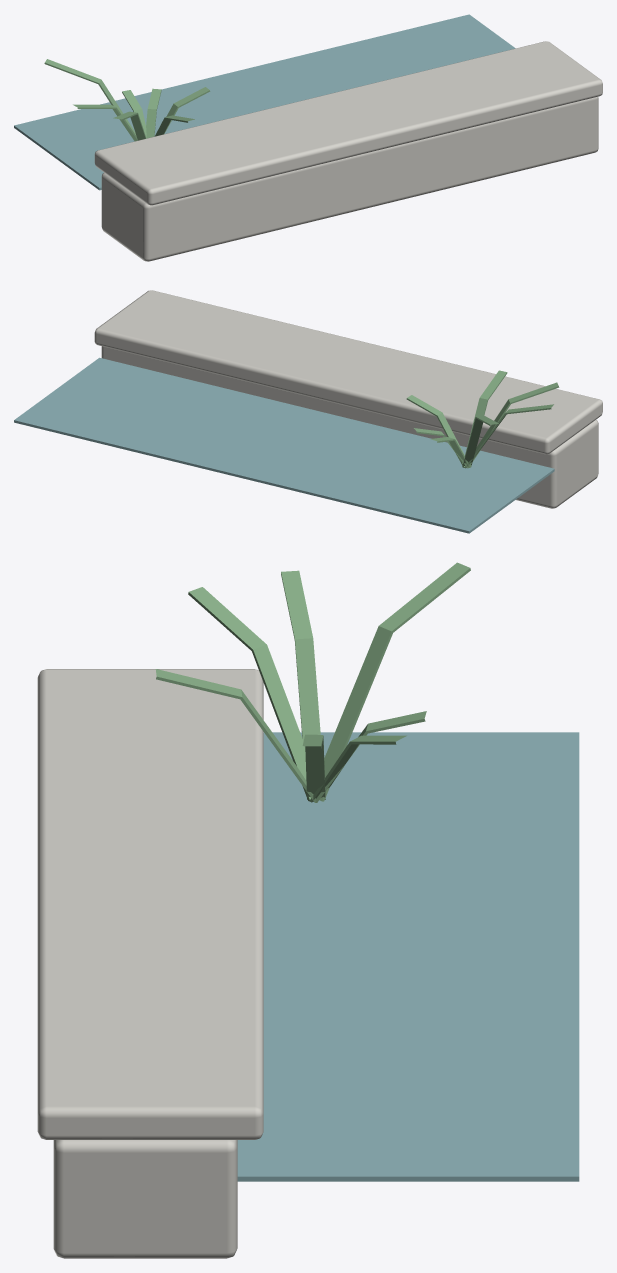
Rendered from lotus-pond-edge.glb.
The picture shows the model from 3 angles, top to bottom: view 1: azimuth 30°, elevation 25°; view 2: azimuth 150°, elevation 25°; view 3: azimuth 270°, elevation 25°; orthographic projection. The views are drawn at different scales.
Visible parts, largest first — view 1: lotus-pond-edge-straight; view 2: lotus-pond-edge-straight; view 3: lotus-pond-edge-straight.
Part boxes in pixels (x1,y1,x2,y2): lotus-pond-edge-straight: [14, 14, 602, 261]; lotus-pond-edge-straight: [14, 290, 602, 533]; lotus-pond-edge-straight: [37, 562, 579, 1258].
Bounding box in the file's own units: 4.11 × 1.07 × 2.06.
